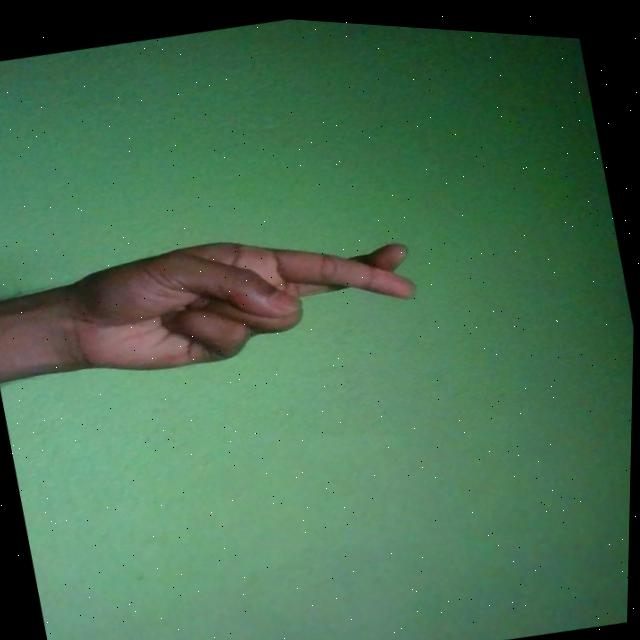Good Luck: (50, 191, 428, 401)
